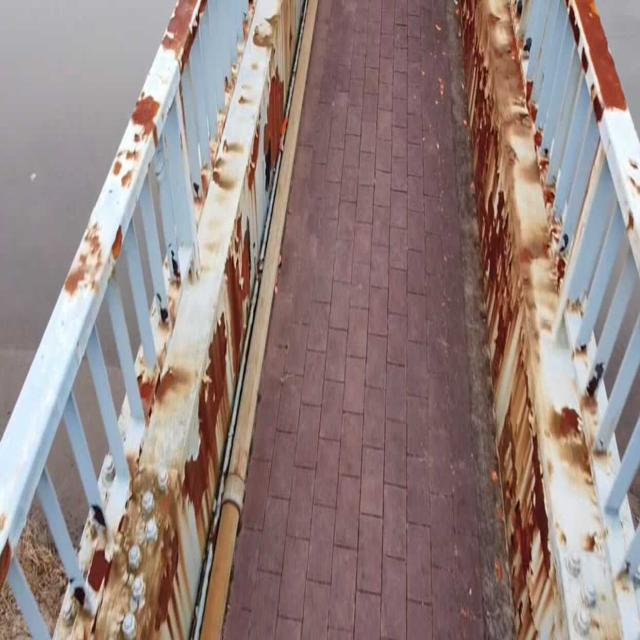corrosion: (87, 18, 280, 640), (440, 4, 613, 634)
